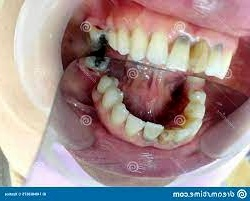Tooth Discoloration: (180, 34, 229, 73)
